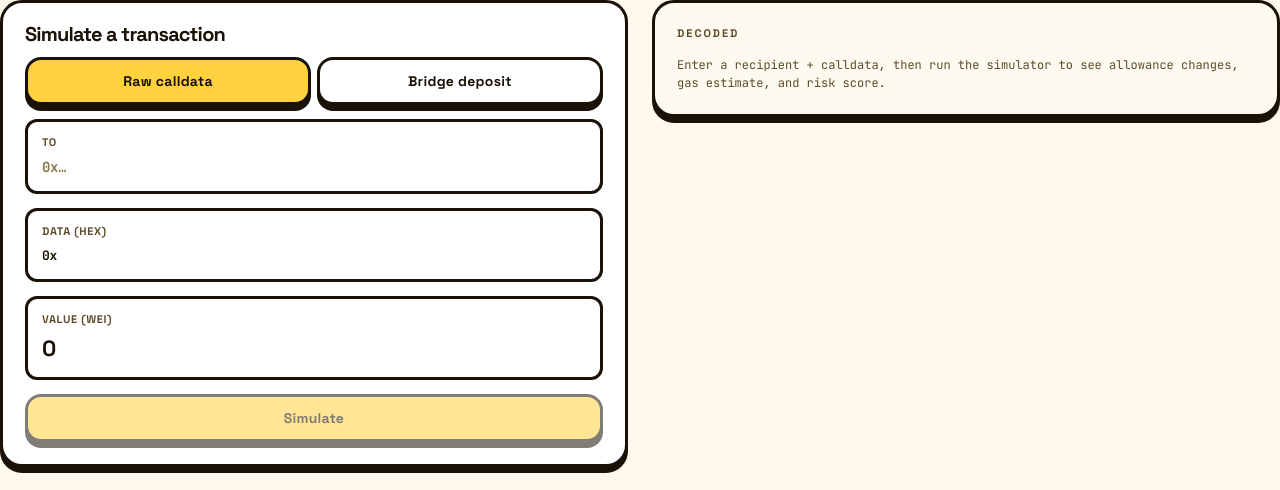
Test: TxReviewPanel explanation layer › offers no explain affordance when the backend says the layer is off
In the field with placeholder "0x…": (314, 167) [42,157,586,178], type "0x000000000000000000000000000000000000beef"
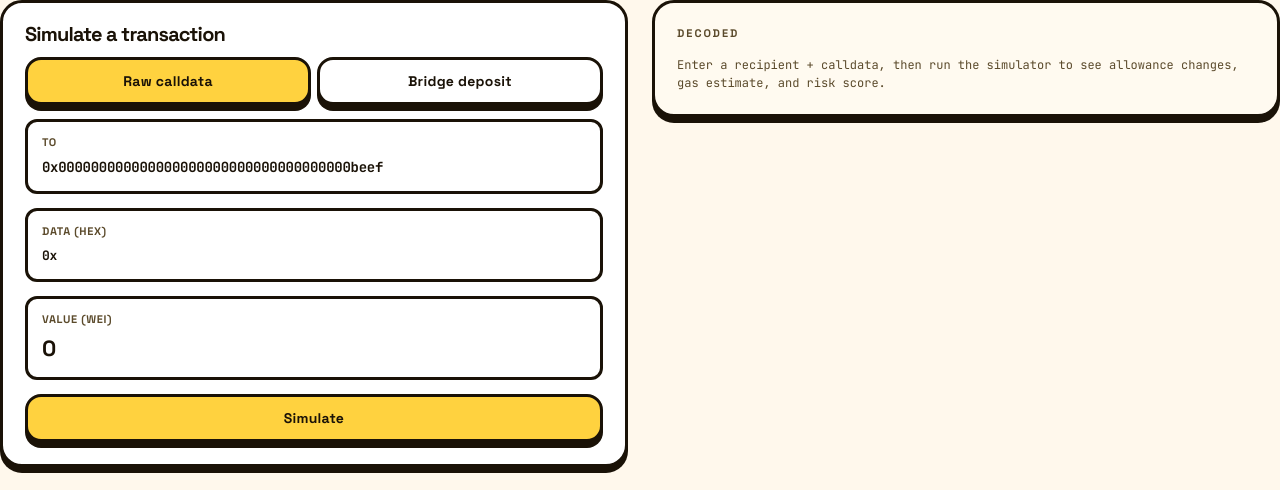
Click the button "Simulate": (314, 418) [25,394,603,442]
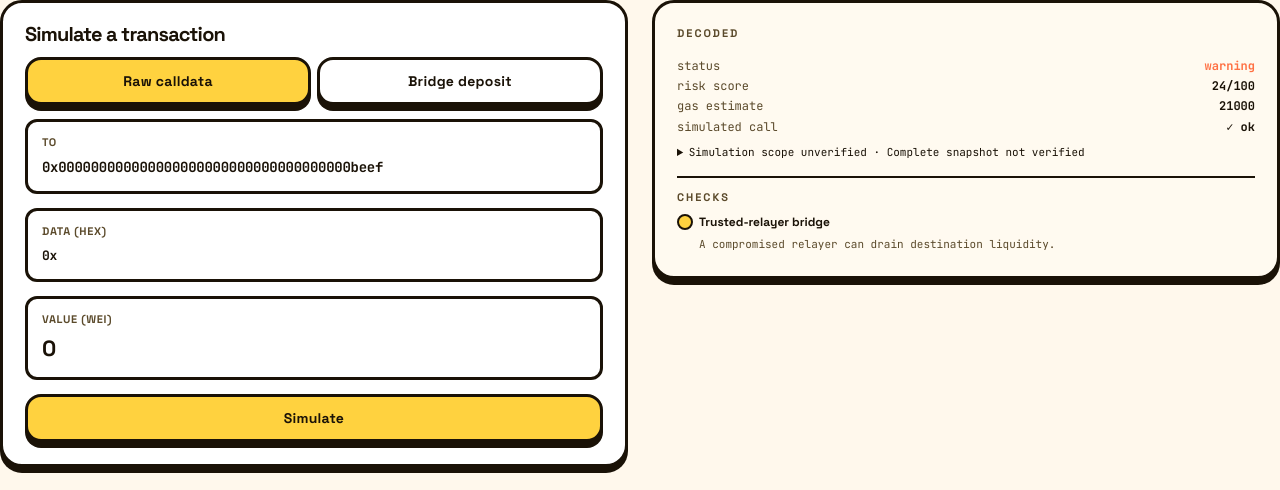
Check: the text "Trusted-relayer bridge" is shown, box [699,214,830,230]
